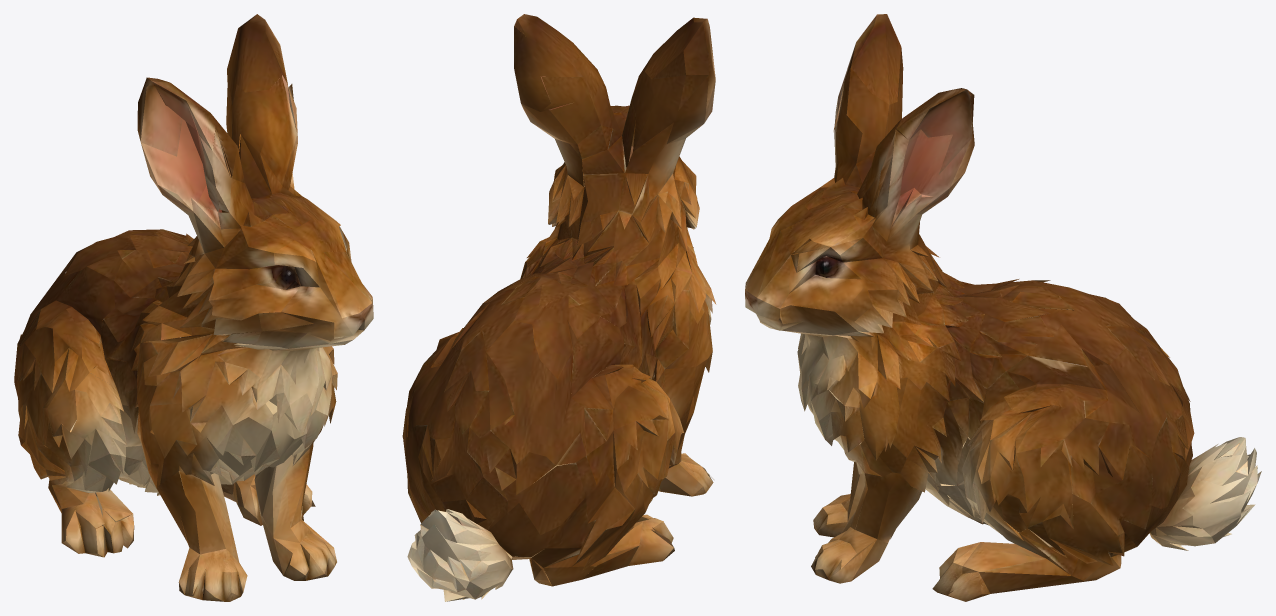
The model's file is CRT-001.glb.
The picture shows the model from 3 angles, left to right: view 1: azimuth 30°, elevation 25°; view 2: azimuth 150°, elevation 25°; view 3: azimuth 270°, elevation 25°; orthographic projection. The views are drawn at different scales.
Visible parts, largest first — view 1: CRT-001; view 2: CRT-001; view 3: CRT-001.
Part boxes in pixels (bbox=[...]): CRT-001: bbox=[14, 14, 373, 601]; CRT-001: bbox=[402, 14, 716, 601]; CRT-001: bbox=[745, 14, 1261, 601].
Bounding box in the file's own units: 0.2144 × 0.4201 × 0.3987.
1 material, 1 textured.
